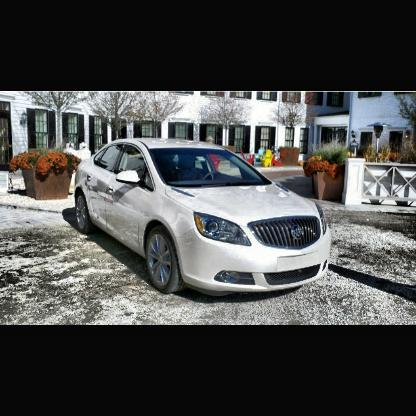Buick Verano Sedan 2012: (76, 136, 335, 297)
